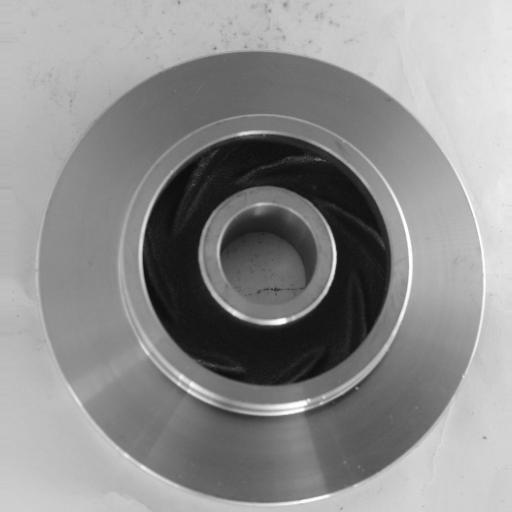polished_casting: (31, 47, 486, 503)
